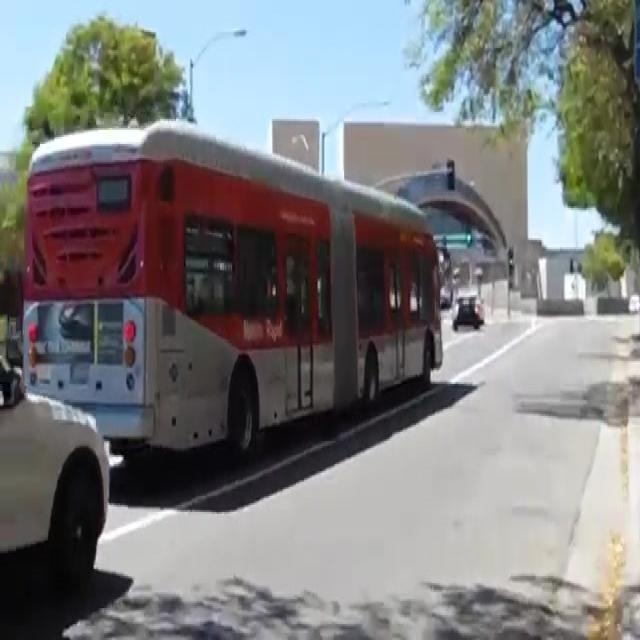Bus: (0, 89, 471, 485)
